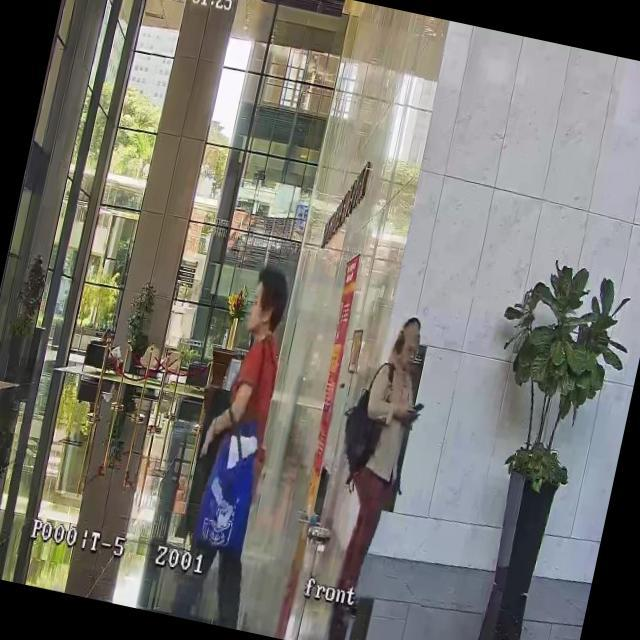person: (165, 257, 313, 627), (314, 308, 438, 640), (94, 326, 130, 376)
